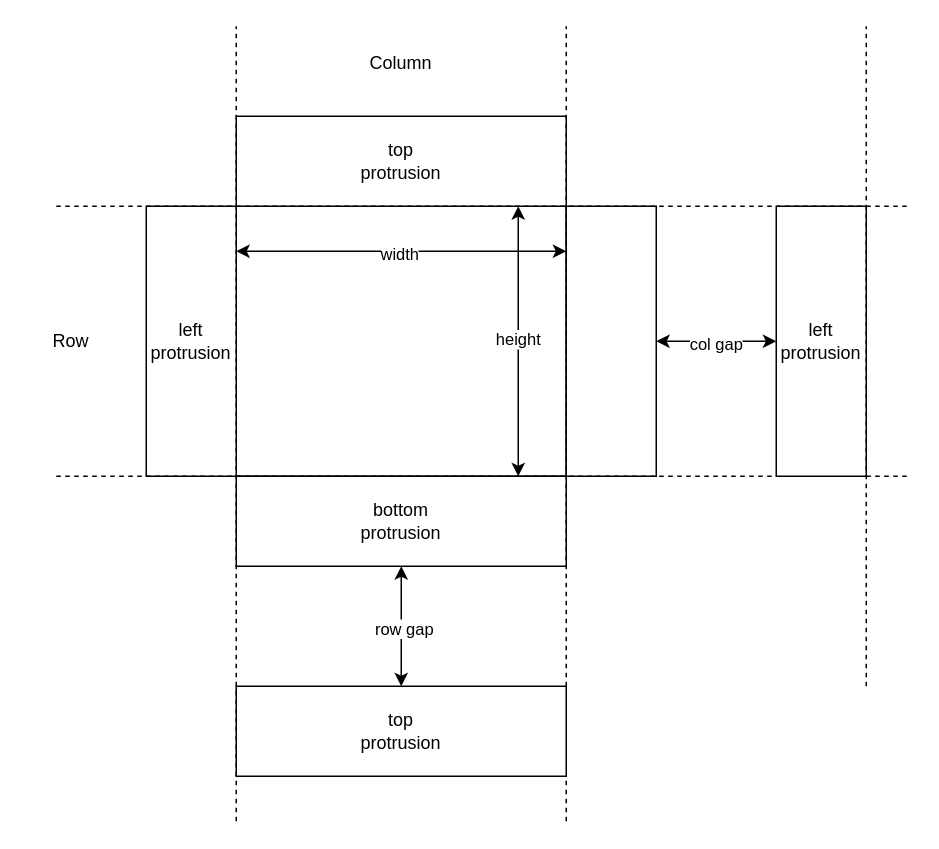
Image size: 939x849. Some labels were removed from this diagram. Each missing label, with the box of its shape:
Inner Area: (235, 205, 566, 476)
right protrusion: (565, 205, 656, 476)
